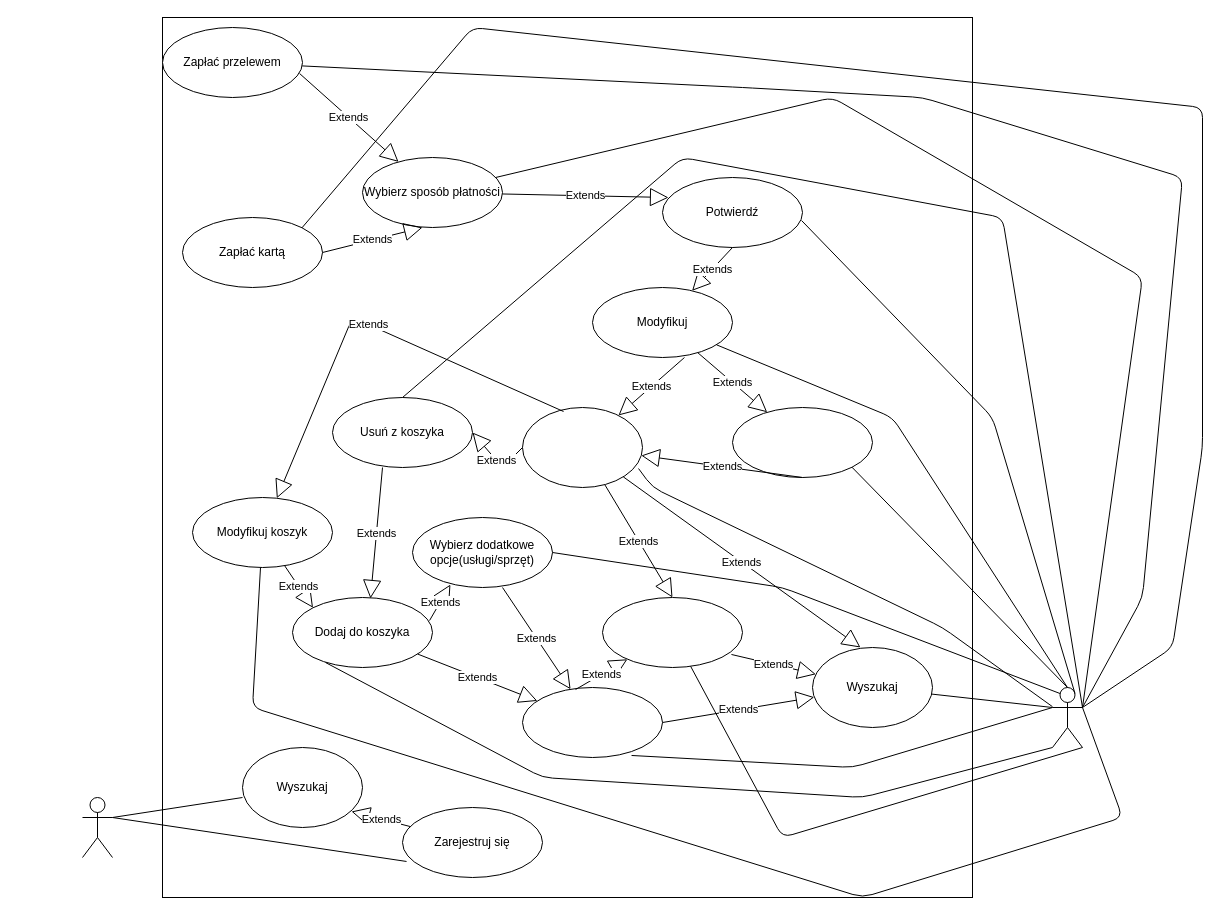
Some shapes in this 1221 by 916 pixel diagram are drawn without their labels. Each missing label, with the box of its shape:
Anuluji: (732, 406, 872, 478)
Niezarejestrowany użytkownik: (82, 796, 112, 858)
Rezerwuji: (522, 406, 642, 488)
Wybierz jacht: (522, 686, 662, 758)
Wyszukaj zaawansowane: (602, 596, 742, 668)
Zarejestrowany użykownik: (1052, 686, 1082, 748)
